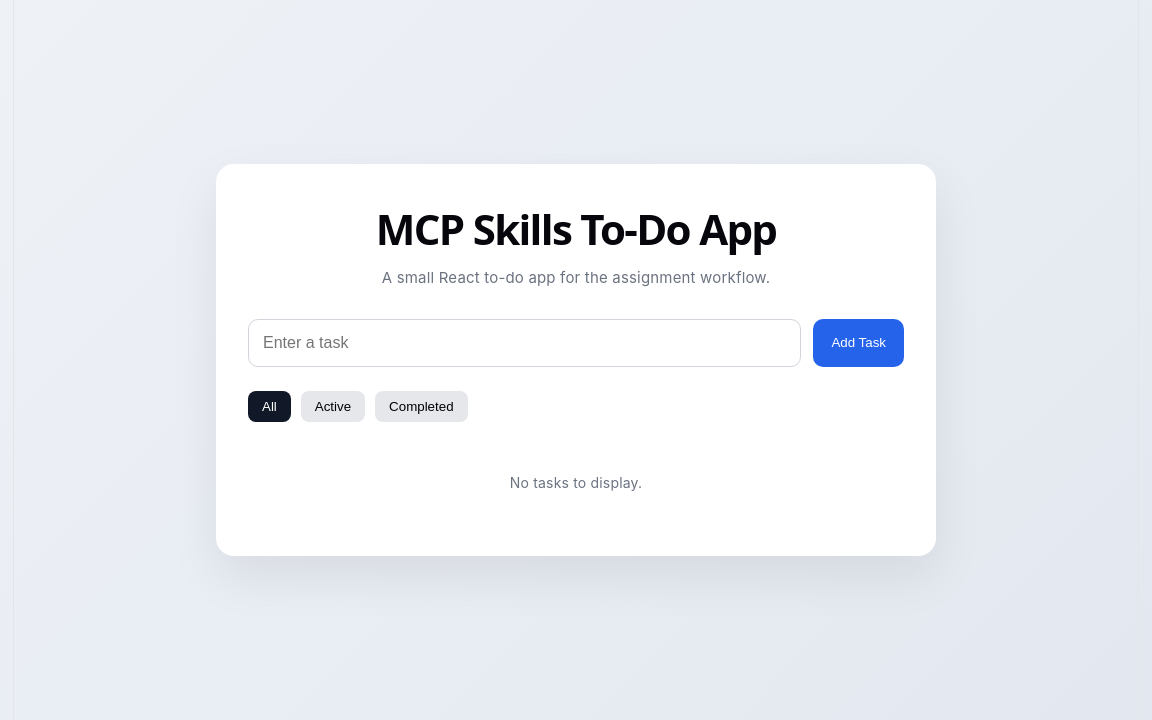
Test: To-Do App › deletes a task
Type "Task delete" into the field with placeholder "Enter a task" at [525, 343], box [248, 319, 801, 367]
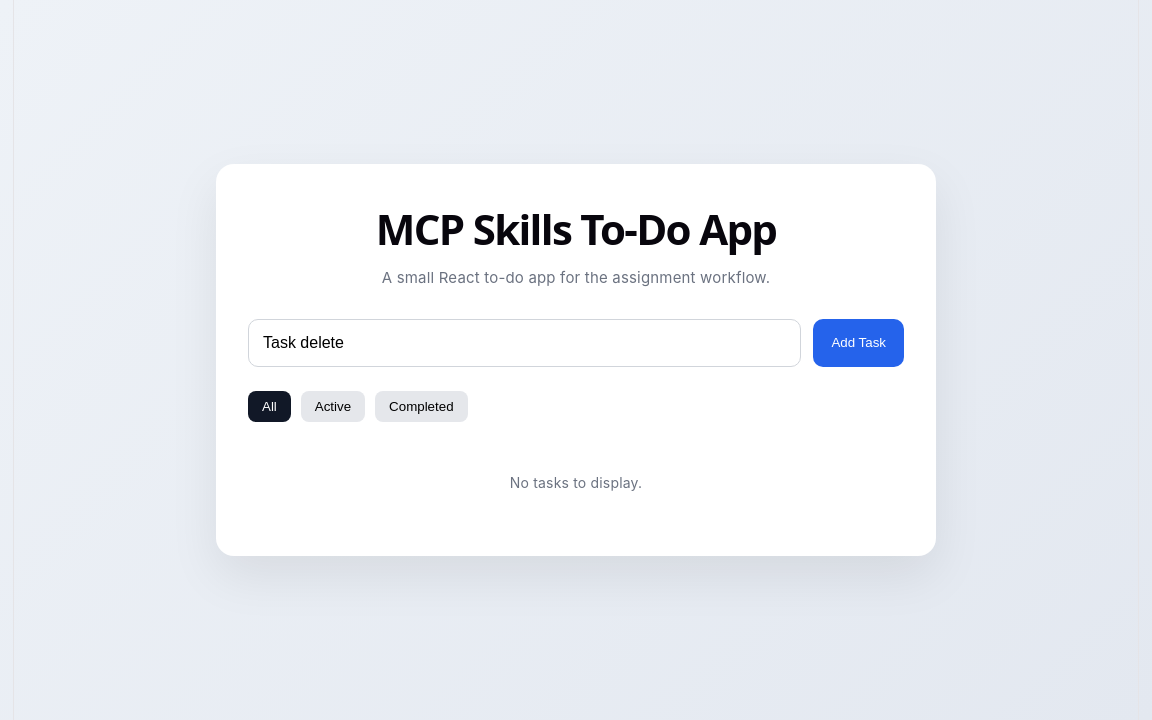
Click the button "Add Task" at [859, 343], box [813, 319, 904, 367]
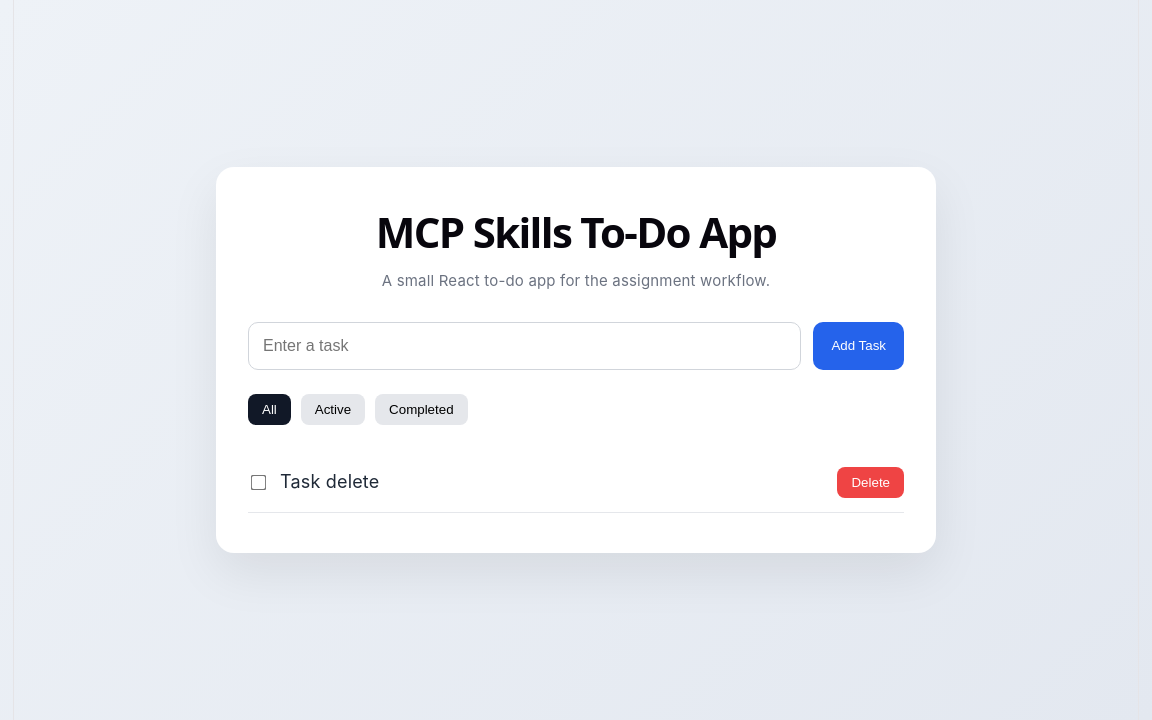
Click the button "Delete" at [871, 482], box [838, 467, 904, 498]
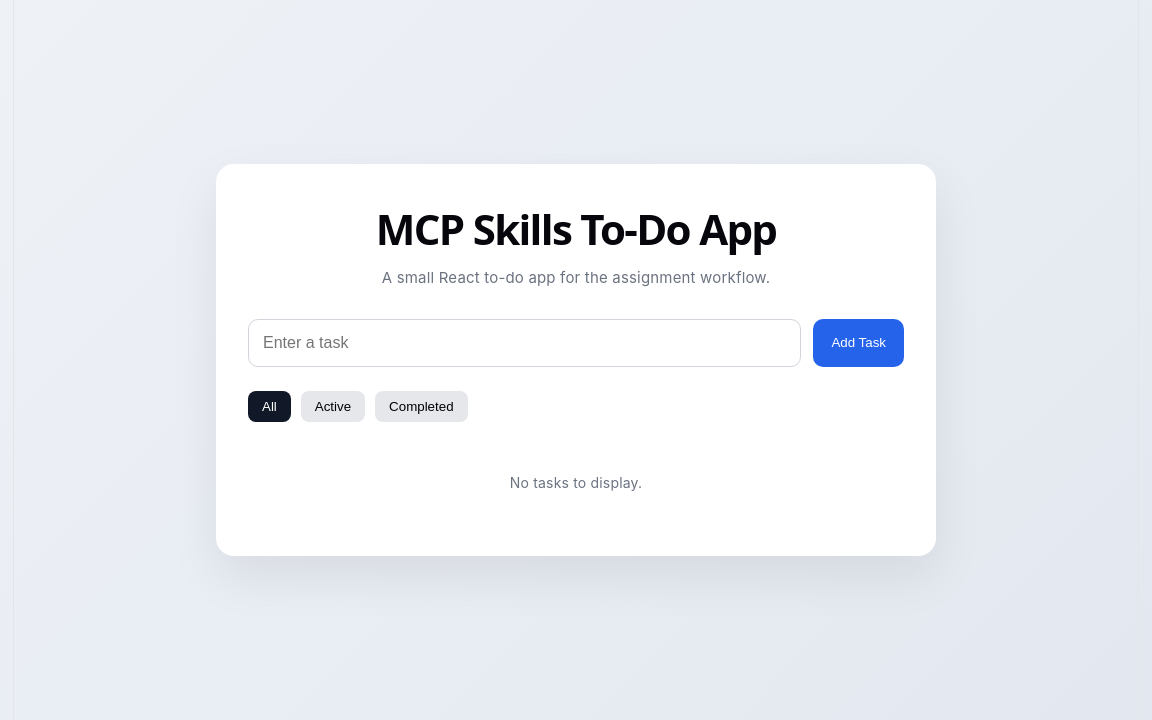
Check: the list item "No tasks to display." is shown, box [510, 474, 642, 491]
